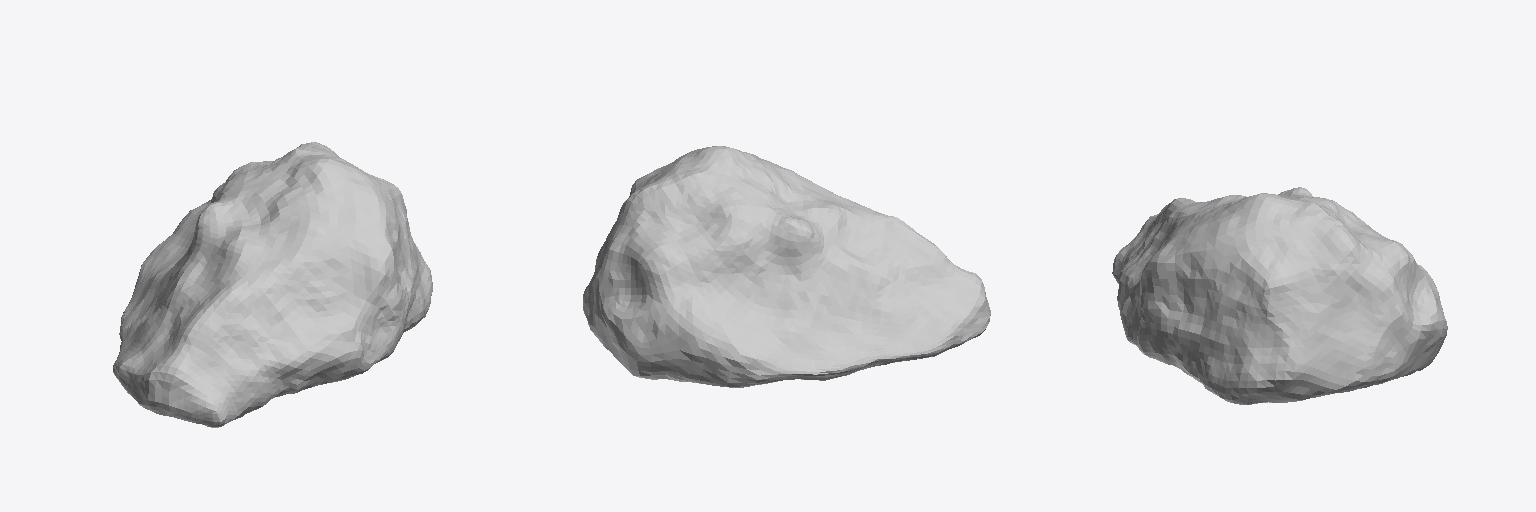
Rendered from rock4.obj.
3 renders of one model, left to right at view 1: azimuth 30°, elevation 25°; view 2: azimuth 150°, elevation 25°; view 3: azimuth 270°, elevation 25°, orthographic.
Visible parts, largest first — view 1: rock4:Rock_03 rock4:group3 rock4:polySurface1; view 2: rock4:Rock_03 rock4:group3 rock4:polySurface1; view 3: rock4:Rock_03 rock4:group3 rock4:polySurface1.
Boxes of the visible parts, x1=… form: rock4:Rock_03 rock4:group3 rock4:polySurface1: x1=113, y1=142, x2=432, y2=427; rock4:Rock_03 rock4:group3 rock4:polySurface1: x1=583, y1=146, x2=990, y2=387; rock4:Rock_03 rock4:group3 rock4:polySurface1: x1=1112, y1=187, x2=1447, y2=404.
Bounding box in the file's own units: 0.5352 × 0.2704 × 0.4679.